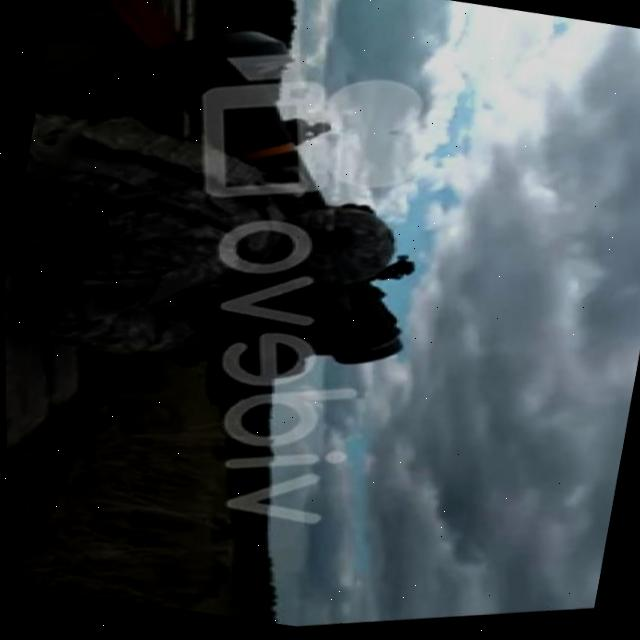rocket: (70, 0, 465, 430)
